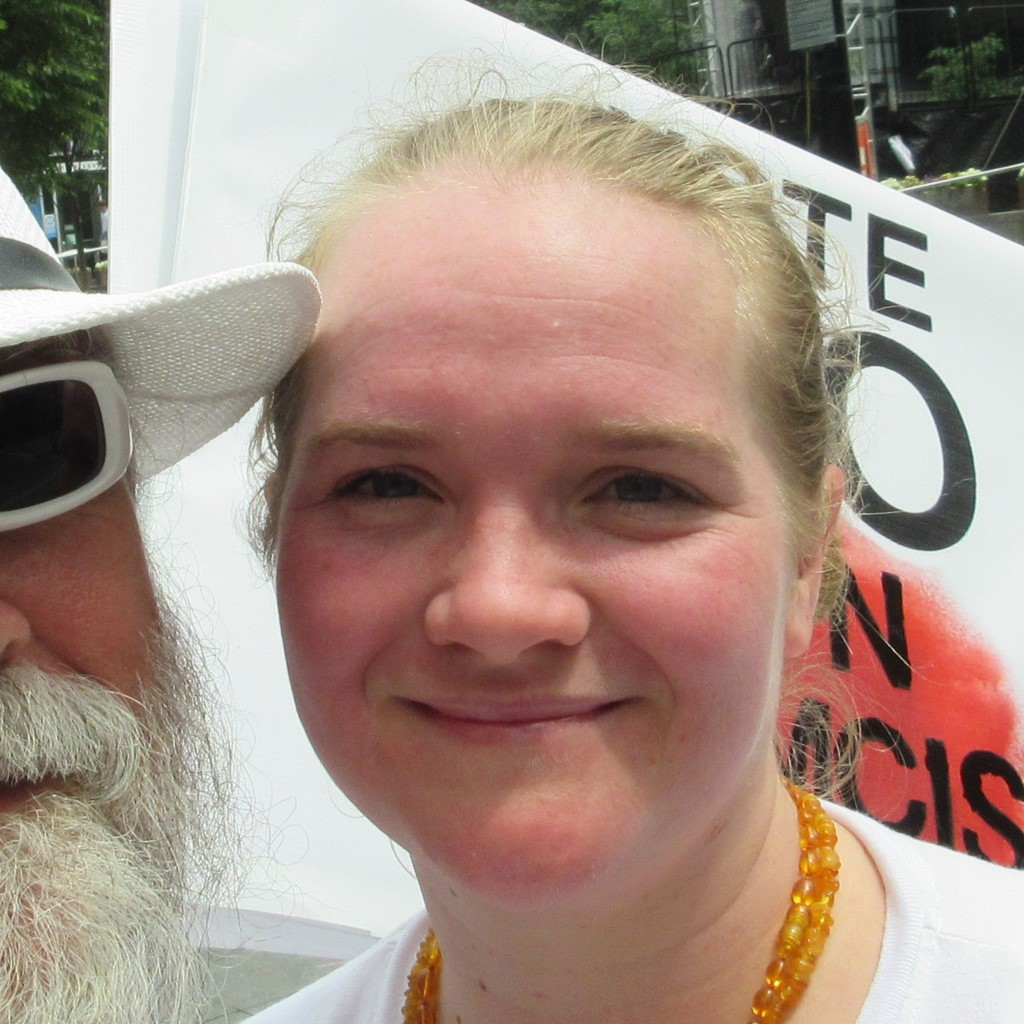sin_mascara: (275, 125, 824, 896)
